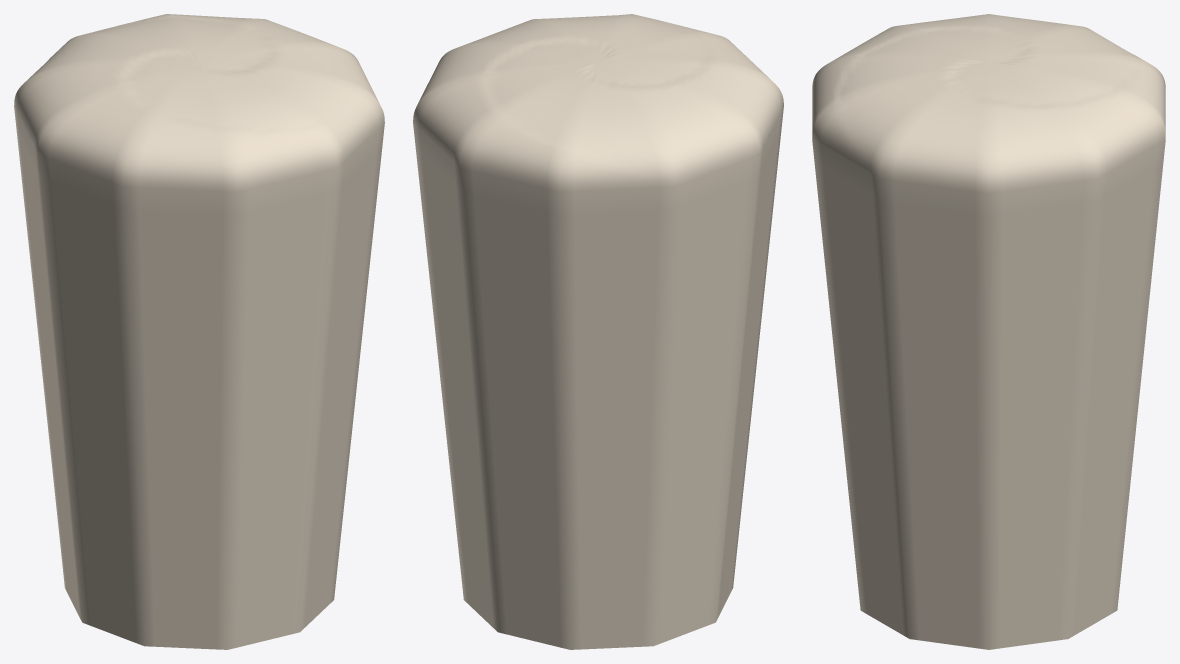
Rendered from base-shake-500-ml.glb.
3 views of the same model, side by side, from view 1: azimuth 30°, elevation 25°; view 2: azimuth 150°, elevation 25°; view 3: azimuth 270°, elevation 25° (orthographic).
Parts seen in each view (by area): view 1: base-shake-500-ml; view 2: base-shake-500-ml; view 3: base-shake-500-ml.
Part boxes in pixels (x1,y1,x2,y2): base-shake-500-ml: [14, 14, 384, 649]; base-shake-500-ml: [413, 14, 783, 649]; base-shake-500-ml: [812, 14, 1165, 649].
Size of the model in its own units: 0.0834 by 0.1314 by 0.0793.
